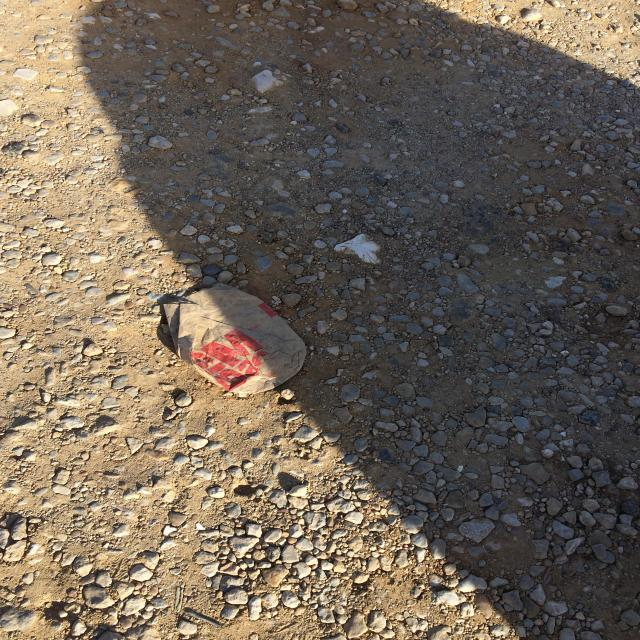Other plastic bottle: (188, 610, 222, 628)
Paper bag: (161, 283, 306, 394)
Unlabeled litter: (174, 587, 184, 613)
